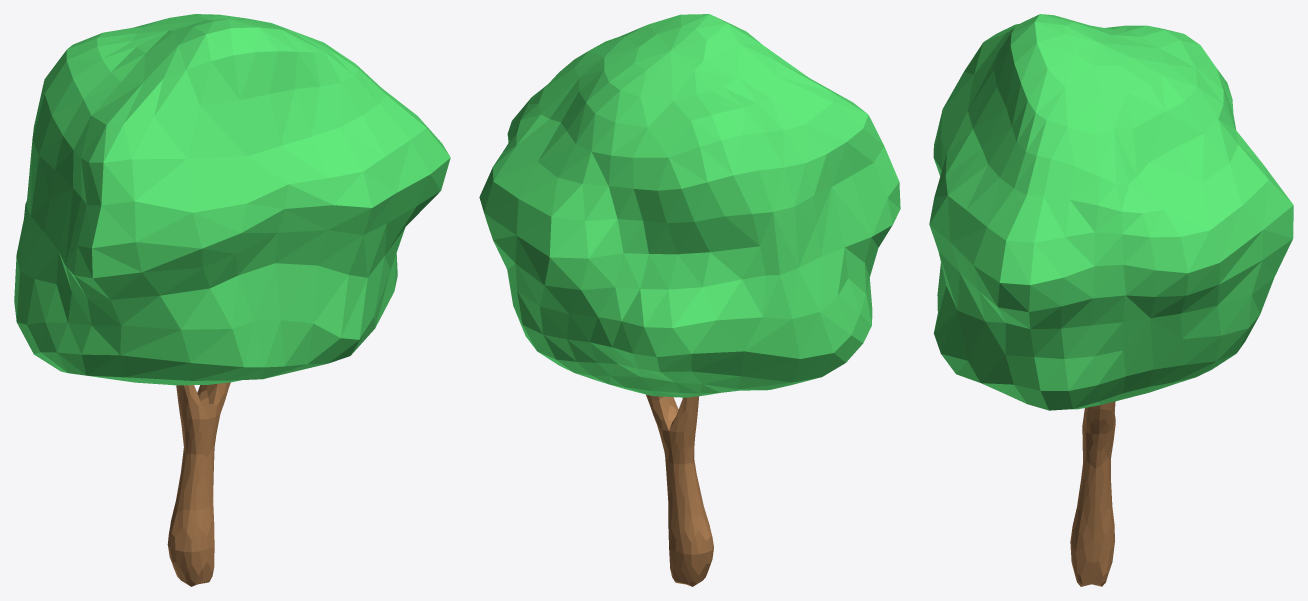
File: Tree_green 3.fbx
3 renders of one model, left to right at view 1: azimuth 30°, elevation 25°; view 2: azimuth 150°, elevation 25°; view 3: azimuth 270°, elevation 25°, orthographic. The views are drawn at different scales.
Parts seen in each view (by area): view 1: Leaves top, Leaves bot, Tree.002; view 2: Leaves top, Leaves bot, Tree.002; view 3: Leaves top, Leaves bot, Tree.002.
Part boxes in pixels (<box>): Leaves top: <box>26,14,450,278</box>; Leaves bot: <box>14,192,439,385</box>; Tree.002: <box>167,382,230,586</box>; Leaves top: <box>479,14,900,289</box>; Leaves bot: <box>493,225,892,397</box>; Tree.002: <box>645,394,713,586</box>; Leaves top: <box>929,14,1293,311</box>; Leaves bot: <box>934,239,1292,410</box>; Tree.002: <box>1070,401,1115,586</box>.
Size of the model in its own units: 304 by 431 by 252.
